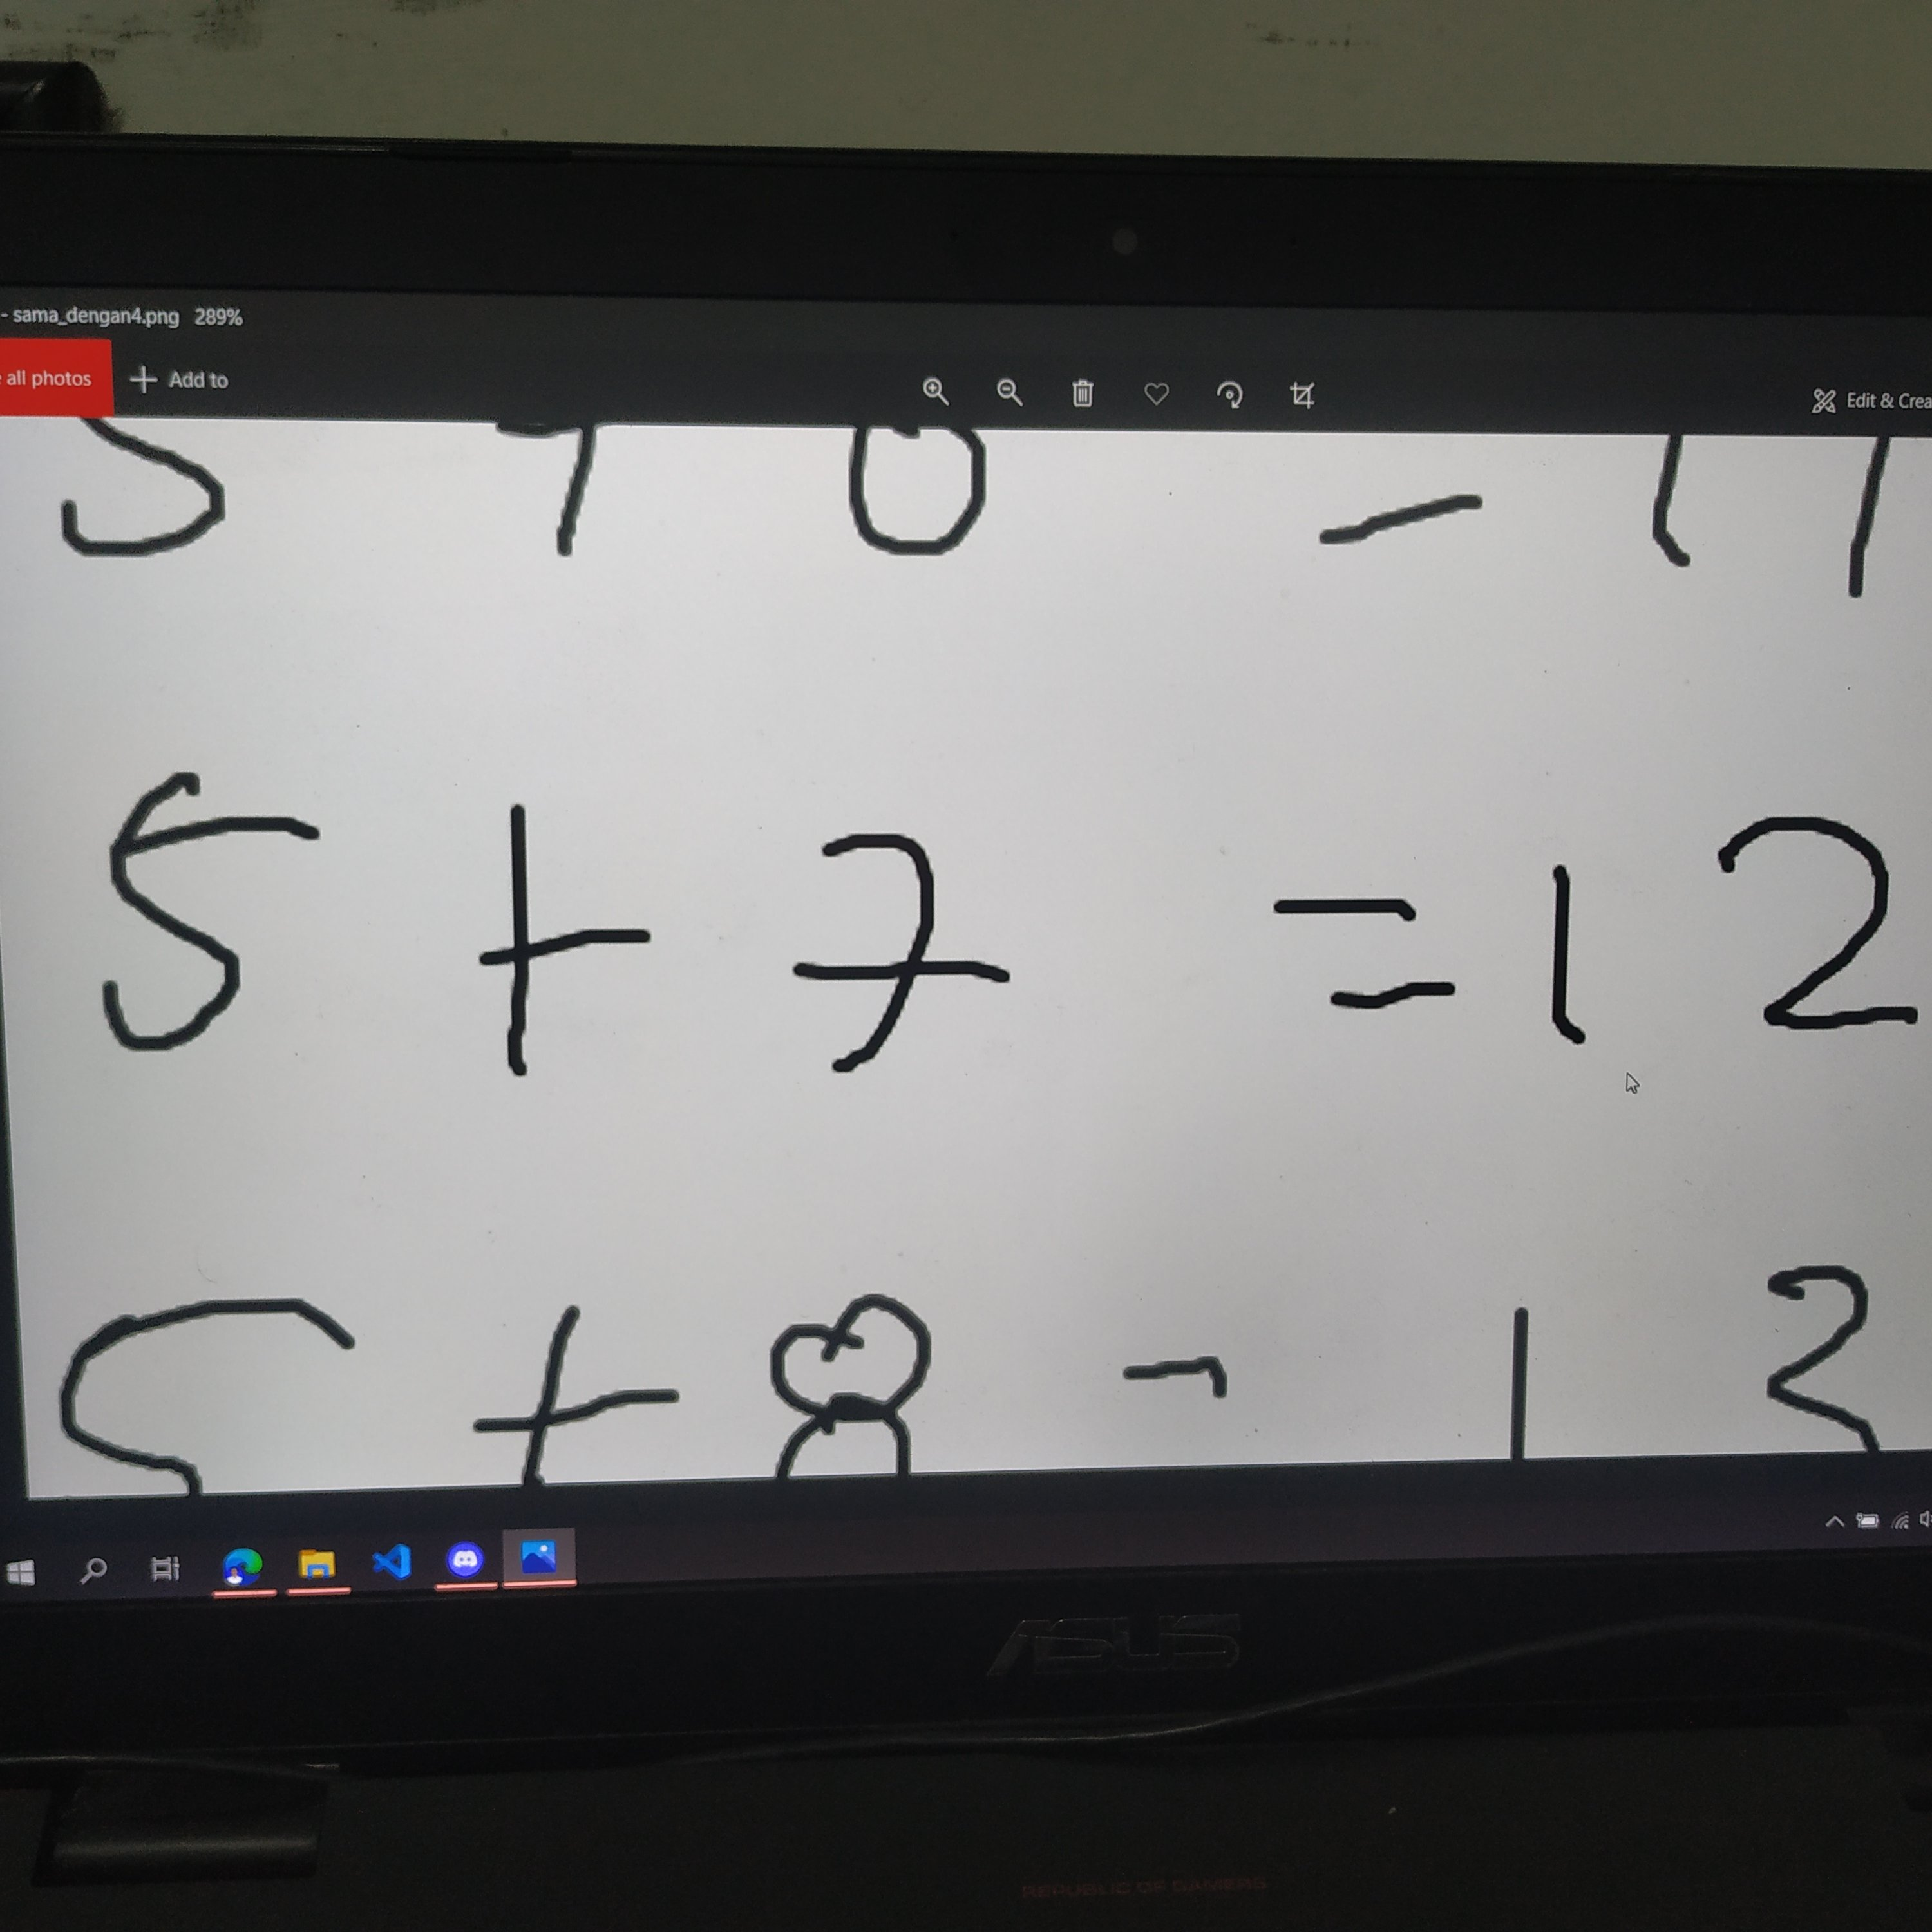num1: (1525, 843, 1608, 1063)
num2: (1689, 791, 1932, 1072)
num5: (77, 779, 341, 1072)
num7: (767, 819, 1033, 1088)
openbracket: (1238, 848, 1486, 1053)
sum: (433, 789, 684, 1105)
